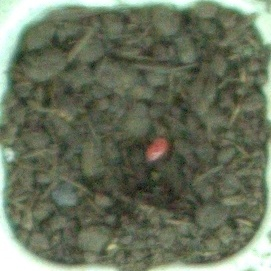pepper seed: (54, 53, 229, 219)
